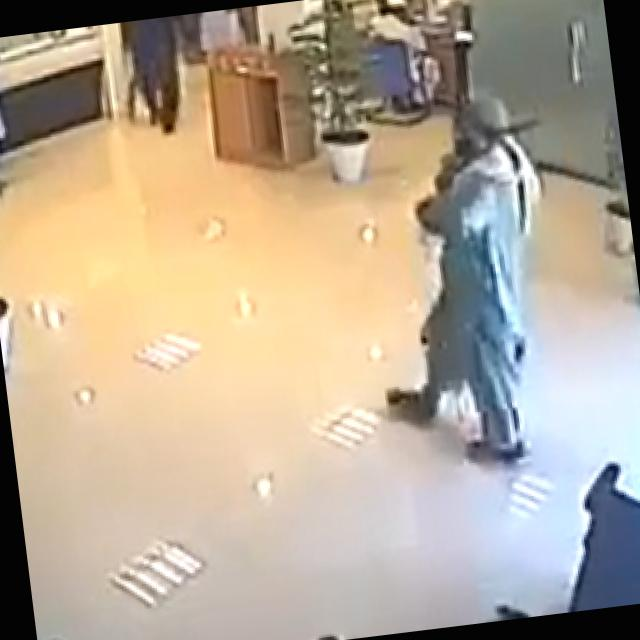person: (352, 88, 572, 467)
